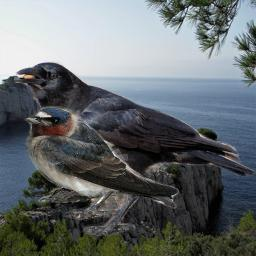Crow: (14, 60, 255, 236)
Swallow: (22, 105, 180, 209)
